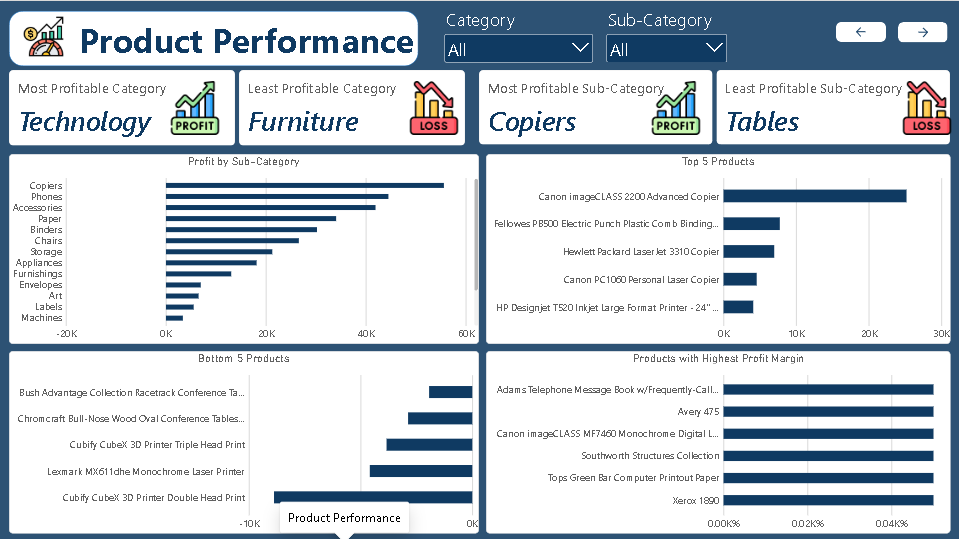

This screenshot's page, from the dashboard's own definition file:
{"tool":"powerbi","page":{"name":"Product Performance","canvas":[1920,1080],"ordinal":2},"visuals":[{"type":"shape","box":[19.4,19.4,818.6,110.2],"z":0},{"type":"image","box":[47.5,15.1,82.1,110.2],"z":1000},{"type":"cardVisual","fields":{"Data":["Superstore_Cleaned.Most Profitable Category","Superstore_Cleaned.Least Profitable Category"]},"box":[19.4,138.2,913.7,151.2],"z":2000},{"type":"cardVisual","fields":{"Data":["Superstore_Cleaned.Most Profitable Sub-Category","Superstore_Cleaned.Least Profitable Sub-Category"]},"box":[959,138.2,943.9,149],"z":3000},{"type":"image","box":[328.3,159.8,127.4,108],"z":4000},{"type":"image","box":[1289.5,159.8,127.4,108],"z":5000},{"type":"image","box":[1792.8,159.8,127,108],"z":6000},{"type":"image","box":[805.7,159.8,127,108],"z":7000},{"type":"clusteredBarChart","title":"Profit by Sub-Category","fields":{"Category":["Superstore_Cleaned.Sub-Category"],"Y":["Sum(Superstore_Cleaned.Profit)"]},"box":[19.4,306.7,939.6,380.2],"z":8000},{"type":"clusteredBarChart","title":"Top 5 Products","fields":{"Category":["Superstore_Cleaned.Product Name"],"Y":["Sum(Superstore_Cleaned.Profit)"]},"box":[974.2,306.7,928.8,380.2],"z":9000},{"type":"slicer","fields":{"Values":["Superstore_Cleaned.Category"]},"box":[885.6,13,306.7,116.6],"z":10000},{"type":"slicer","fields":{"Values":["Superstore_Cleaned.Sub-Category"]},"box":[1209.6,13,250.6,110.2],"z":11000},{"type":"clusteredBarChart","title":"Bottom 5 Products","fields":{"Category":["Superstore_Cleaned.Product Name"],"Y":["Sum(Superstore_Cleaned.Profit)"]},"box":[19.4,699.8,939.6,365],"z":11001},{"type":"clusteredBarChart","title":"Products with Highest Profit Margin","fields":{"Category":["Superstore_Cleaned.Product Name"],"Y":["Superstore_Cleaned.Profit Margin"]},"box":[974,700,929,365],"z":11002},{"type":"actionButton","box":[1674,41,100,40],"z":11003},{"type":"actionButton","box":[1797.1,41,99.4,41],"z":11004}]}

Visuals, with their boxes in screenshot pixels (x1, y1, x2, y2), scaled from the page's 1920x1080 canvas onto the 959x539 screenshot:
shape: x1=10, y1=10, x2=419, y2=65
image: x1=24, y1=8, x2=65, y2=63
cardVisual - Superstore_Cleaned.Most Profitable Category x Superstore_Cleaned.Least Profitable Category: x1=10, y1=69, x2=466, y2=144
cardVisual - Superstore_Cleaned.Most Profitable Sub-Category x Superstore_Cleaned.Least Profitable Sub-Category: x1=479, y1=69, x2=950, y2=143
image: x1=164, y1=80, x2=228, y2=134
image: x1=644, y1=80, x2=708, y2=134
image: x1=895, y1=80, x2=958, y2=134
image: x1=402, y1=80, x2=466, y2=134
"Profit by Sub-Category" clusteredBarChart: x1=10, y1=153, x2=479, y2=343
"Top 5 Products" clusteredBarChart: x1=487, y1=153, x2=951, y2=343
slicer - Superstore_Cleaned.Category: x1=442, y1=6, x2=596, y2=65
slicer - Superstore_Cleaned.Sub-Category: x1=604, y1=6, x2=729, y2=61
"Bottom 5 Products" clusteredBarChart: x1=10, y1=349, x2=479, y2=531
"Products with Highest Profit Margin" clusteredBarChart: x1=486, y1=349, x2=951, y2=532
actionButton: x1=836, y1=20, x2=886, y2=40
actionButton: x1=898, y1=20, x2=947, y2=41
